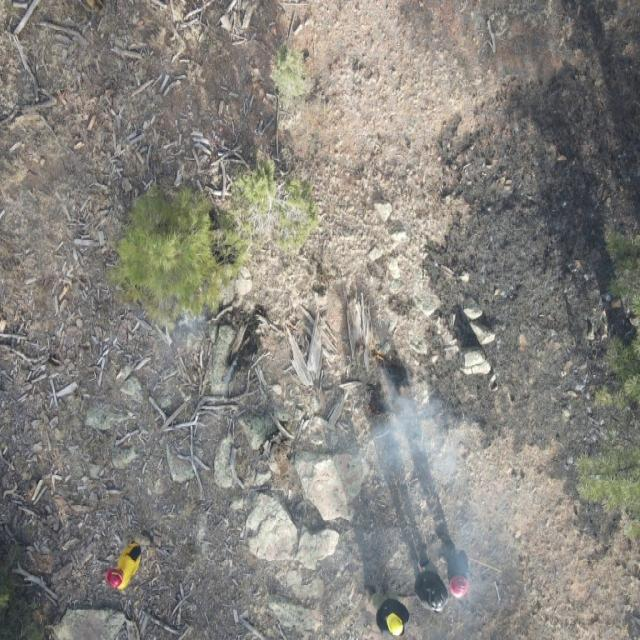fire: (359, 404, 397, 426), (368, 346, 393, 366)
smoke: (336, 365, 516, 640), (138, 299, 214, 363)
